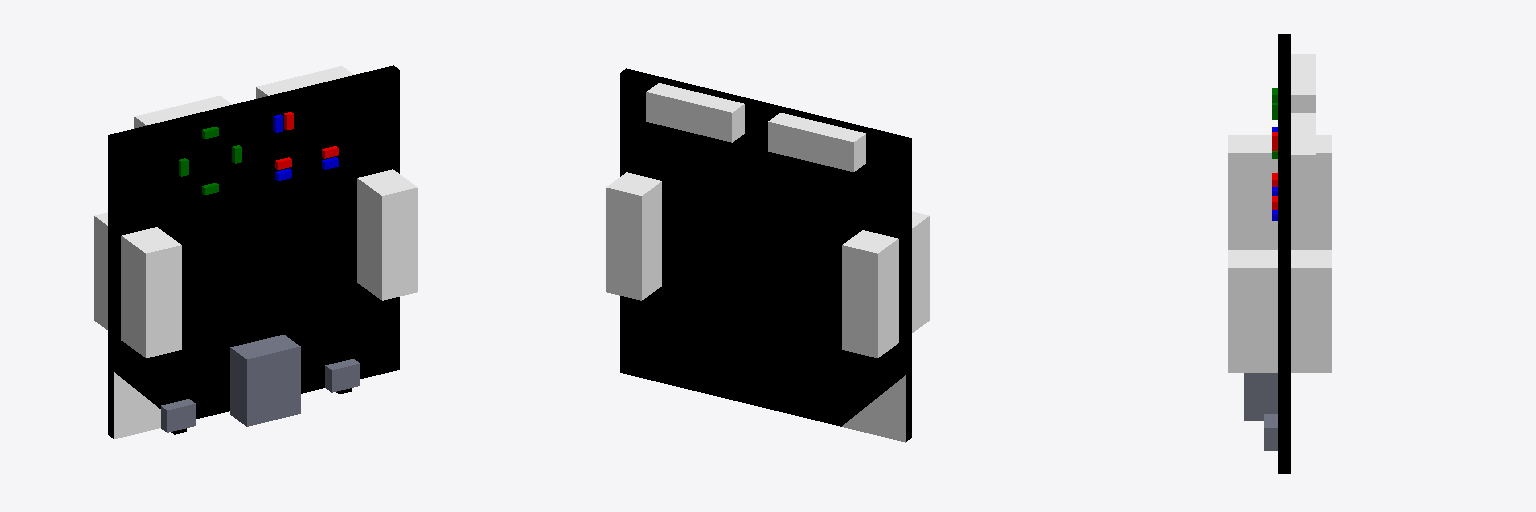
3 renders of one model, left to right at view 1: azimuth 30°, elevation 25°; view 2: azimuth 150°, elevation 25°; view 3: azimuth 270°, elevation 25°, orthographic.
Bounding box in the file's own units: 2 × 2.03 × 0.63.
Materials: 1 (1 with a texture image).